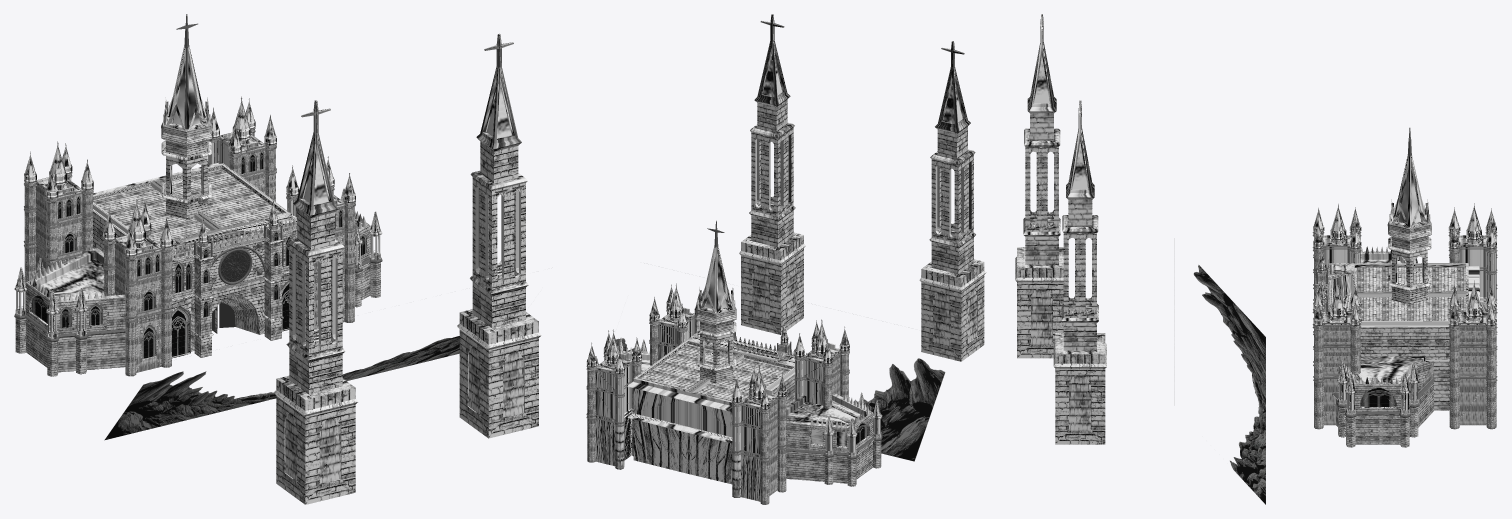
The model's file is vortex_scene.glb.
3 renders of one model, left to right at view 1: azimuth 30°, elevation 25°; view 2: azimuth 150°, elevation 25°; view 3: azimuth 270°, elevation 25°, orthographic. The views are drawn at different scales.
Parts seen in each view (by area): view 1: Castle_Cathedral, Tower_Right, Tower_Left, Foreground_Rocks, Castle_RoseWindow; view 2: Castle_Cathedral, Tower_Left, Tower_Right, Foreground_Rocks; view 3: Castle_Cathedral, Tower_Right, Tower_Left, Foreground_Rocks.
Boxes of the visible parts, box(x1,y1,x2,y2) form: Castle_Cathedral: box(14, 14, 382, 376); Tower_Right: box(457, 33, 541, 438); Tower_Left: box(274, 100, 357, 504); Foreground_Rocks: box(104, 336, 459, 440); Castle_RoseWindow: box(220, 251, 249, 281); Castle_Cathedral: box(586, 220, 882, 504); Tower_Left: box(919, 41, 986, 361); Tower_Right: box(739, 14, 805, 334); Foreground_Rocks: box(616, 338, 945, 461); Castle_Cathedral: box(1312, 127, 1497, 447); Tower_Right: box(1053, 100, 1106, 444); Tower_Left: box(1015, 14, 1063, 358); Foreground_Rocks: box(1193, 265, 1265, 504).
Size of what is drawn, in the model's own units: 6.36 by 6.18 by 7.56.
6 materials, 4 textured.
